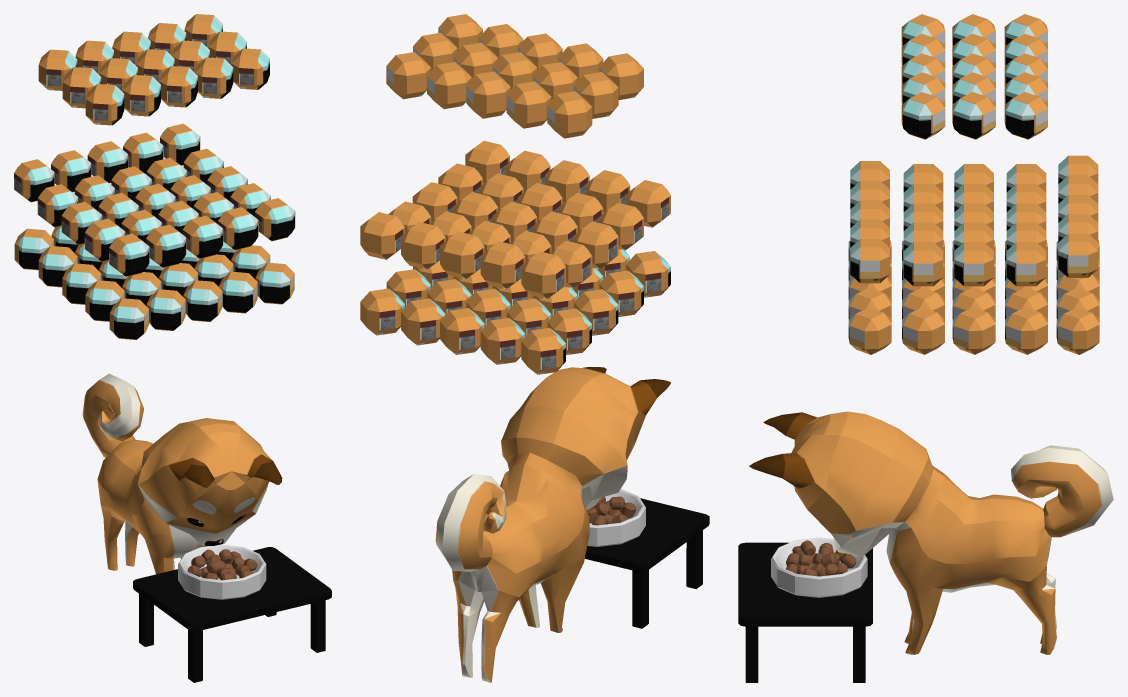
Rendered from fullBowl_frame43.obj.
3 views of the same model, side by side, from view 1: azimuth 30°, elevation 25°; view 2: azimuth 150°, elevation 25°; view 3: azimuth 270°, elevation 25° (orthographic). The views are drawn at different scales.
Parts seen in each view (by area): view 1: newRigging1:BodzL1, Tisch:Tisch:pCube1, FressnapfFull:bulletRigidSetSolved1, FressnapfFull:pCube45, FressnapfFull:pCube46, FressnapfFull:pCube57, FressnapfFull:pCube48, FressnapfFull:pCube50, FressnapfFull:pCube43, FressnapfFull:pCube49, FressnapfFull:pCube42, FressnapfFull:pCube36 (+44 smaller); view 2: newRigging1:BodzL1, Tisch:Tisch:pCube1, FressnapfFull:pCube39, FressnapfFull:pCube51, FressnapfFull:pCube64, FressnapfFull:pCube54, FressnapfFull:pCube37, FressnapfFull:bulletRigidSetSolved1, FressnapfFull:pCube61, FressnapfFull:pCube55, FressnapfFull:pCube53, FressnapfFull:pCube41 (+45 smaller); view 3: newRigging1:BodzL1, Tisch:Tisch:pCube1, FressnapfFull:bulletRigidSetSolved1, FressnapfFull:pCube36, FressnapfFull:pCube4, FressnapfFull:pCube41, FressnapfFull:pCube50, FressnapfFull:pCube55, FressnapfFull:pCube31, FressnapfFull:pCube20, FressnapfFull:pCube10, FressnapfFull:pCube15 (+42 smaller).
Boxes of the visible parts, x1=… form: newRigging1:BodzL1: x1=82, y1=373, x2=282, y2=574; Tisch:Tisch:pCube1: x1=133, y1=547, x2=331, y2=682; FressnapfFull:bulletRigidSetSolved1: x1=178, y1=544, x2=266, y2=599; FressnapfFull:pCube45: x1=85, y1=84, x2=124, y2=125; FressnapfFull:pCube46: x1=109, y1=298, x2=148, y2=339; FressnapfFull:pCube57: x1=109, y1=233, x2=149, y2=276; FressnapfFull:pCube48: x1=183, y1=280, x2=222, y2=321; FressnapfFull:pCube50: x1=255, y1=262, x2=294, y2=304; FressnapfFull:pCube43: x1=159, y1=66, x2=197, y2=107; FressnapfFull:pCube49: x1=146, y1=289, x2=185, y2=330; FressnapfFull:pCube42: x1=122, y1=75, x2=160, y2=116; FressnapfFull:pCube36: x1=231, y1=48, x2=269, y2=89; newRigging1:BodzL1: x1=435, y1=367, x2=670, y2=682; Tisch:Tisch:pCube1: x1=585, y1=498, x2=709, y2=628; FressnapfFull:pCube39: x1=547, y1=91, x2=592, y2=138; FressnapfFull:pCube51: x1=521, y1=327, x2=565, y2=374; FressnapfFull:pCube64: x1=521, y1=251, x2=565, y2=298; FressnapfFull:pCube54: x1=480, y1=318, x2=525, y2=364; FressnapfFull:pCube37: x1=506, y1=81, x2=551, y2=128; FressnapfFull:bulletRigidSetSolved1: x1=587, y1=489, x2=645, y2=546; FressnapfFull:pCube61: x1=480, y1=241, x2=525, y2=289; FressnapfFull:pCube55: x1=360, y1=288, x2=404, y2=335; FressnapfFull:pCube53: x1=440, y1=308, x2=484, y2=354; FressnapfFull:pCube41: x1=386, y1=52, x2=430, y2=99; newRigging1:BodzL1: x1=749, y1=411, x2=1113, y2=654; Tisch:Tisch:pCube1: x1=738, y1=542, x2=872, y2=682; FressnapfFull:bulletRigidSetSolved1: x1=771, y1=537, x2=867, y2=597; FressnapfFull:pCube36: x1=901, y1=92, x2=945, y2=139; FressnapfFull:pCube4: x1=952, y1=307, x2=995, y2=354; FressnapfFull:pCube41: x1=1004, y1=92, x2=1047, y2=139; FressnapfFull:pCube50: x1=848, y1=307, x2=891, y2=354; FressnapfFull:pCube55: x1=1056, y1=307, x2=1099, y2=354; FressnapfFull:pCube31: x1=952, y1=92, x2=995, y2=139; FressnapfFull:pCube20: x1=1006, y1=242, x2=1046, y2=286; FressnapfFull:pCube10: x1=902, y1=307, x2=944, y2=354; FressnapfFull:pCube15: x1=1005, y1=307, x2=1047, y2=354.
Size of the model in its own units: 5.73 by 16.34 by 9.44.
Materials: 4 (3 with a texture image).
